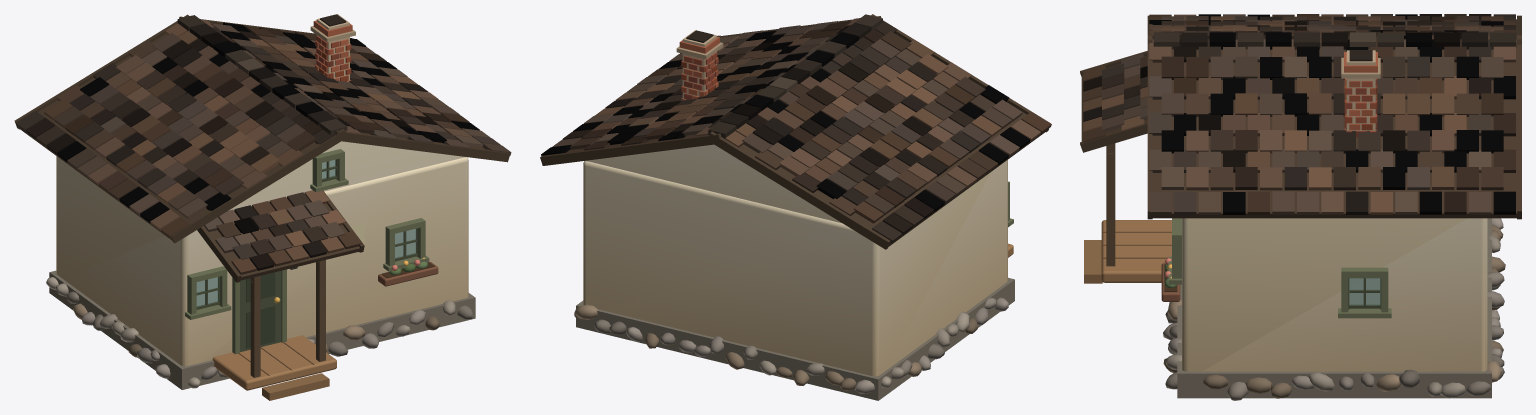
File: farmhouse.glb
The picture shows the model from 3 angles, left to right: view 1: azimuth 30°, elevation 25°; view 2: azimuth 150°, elevation 25°; view 3: azimuth 270°, elevation 25°; orthographic projection. The views are drawn at different scales.
Visible parts, largest first — view 1: farmhouse.batch.0, farmhouseWalls, farmhouseFoundation, farmhouse.batch.1, farmhouse.batch.2, porch, frontDoor, chimney, windowPane (×2); view 2: farmhouseWalls, farmhouse.batch.0, farmhouseFoundation, chimney; view 3: farmhouse.batch.0, farmhouseWalls, farmhouseFoundation, porch, farmhouse.batch.1, chimney, farmhouse.batch.2, windowPane.
Boxes of the visible parts, x1,y1,x2,y2 form: farmhouse.batch.0: (14, 14, 511, 282); farmhouseWalls: (56, 141, 468, 366); farmhouseFoundation: (46, 270, 475, 389); farmhouse.batch.1: (238, 257, 438, 400); farmhouse.batch.2: (185, 149, 429, 319); porch: (212, 335, 336, 390); frontDoor: (232, 269, 286, 354); chimney: (310, 14, 355, 81); windowPane (×2): (196, 229, 416, 306); farmhouseWalls: (583, 144, 1007, 376); farmhouse.batch.0: (540, 14, 1051, 249); farmhouseFoundation: (574, 277, 1014, 400); chimney: (676, 30, 723, 100); farmhouse.batch.0: (1080, 14, 1521, 219); farmhouseWalls: (1182, 218, 1487, 371); farmhouseFoundation: (1163, 218, 1505, 400); porch: (1101, 220, 1171, 282); farmhouse.batch.1: (1084, 143, 1180, 301); chimney: (1341, 50, 1380, 137); farmhouse.batch.2: (1168, 218, 1391, 318); windowPane: (1349, 278, 1380, 304).
Bounding box in the file's own units: 8.57 × 6.26 × 8.09.
